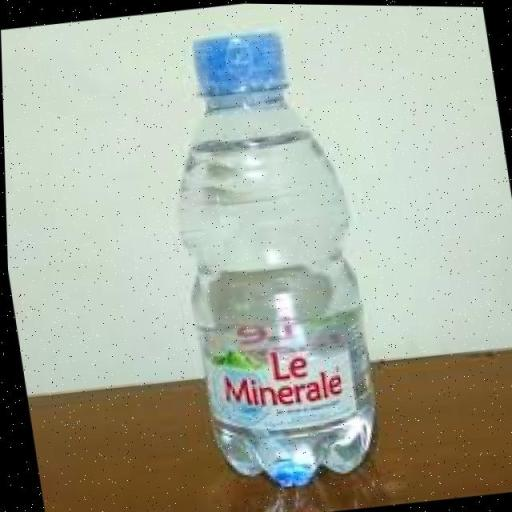plastic: (144, 16, 392, 502)
